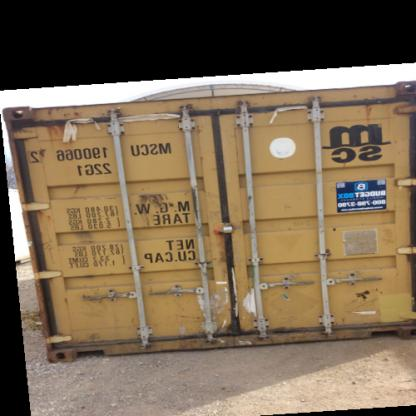Damage: (189, 260, 262, 336), (60, 284, 141, 340), (349, 86, 415, 138), (344, 268, 398, 331), (170, 96, 266, 124), (272, 199, 331, 240), (128, 183, 177, 225), (21, 108, 88, 136), (32, 206, 60, 260), (69, 173, 95, 201), (35, 144, 49, 161)
